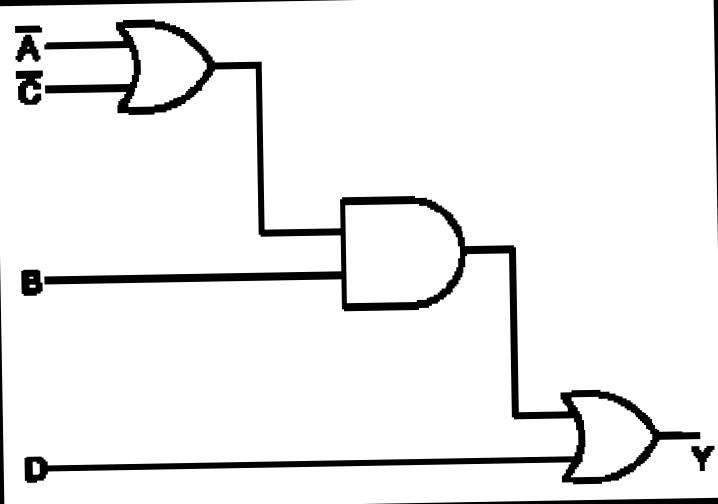and: (334, 187, 477, 319)
or: (108, 13, 228, 120), (554, 380, 669, 491)
